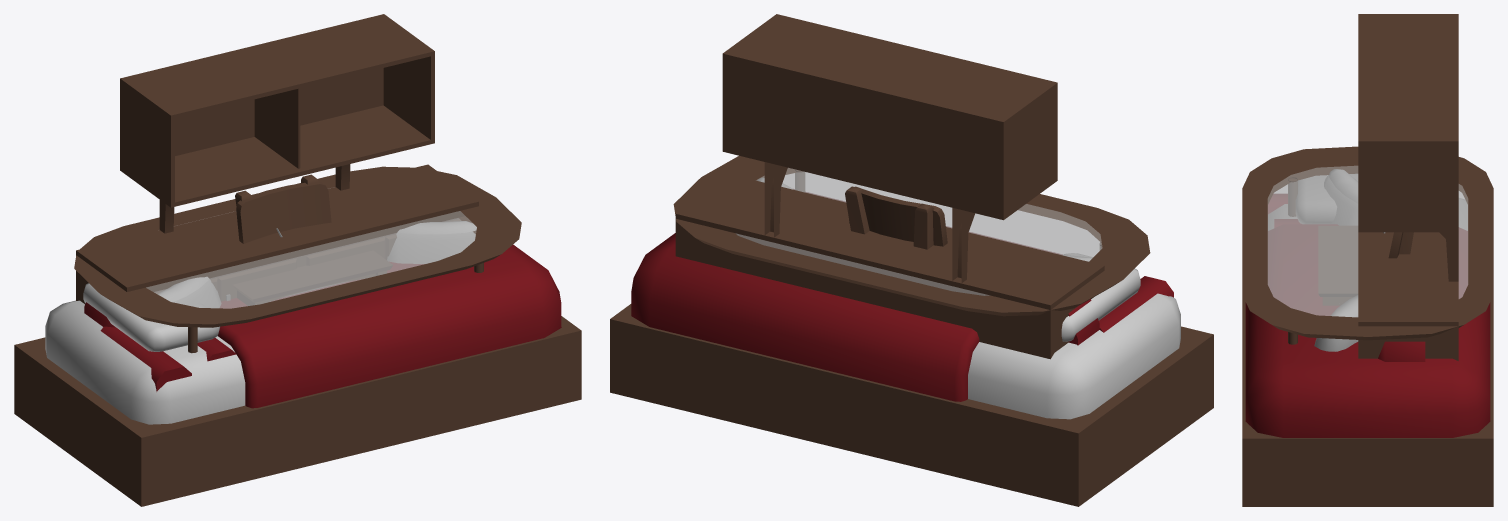
File: GGJ bedroom.fbx
The picture shows the model from 3 angles, left to right: view 1: azimuth 30°, elevation 25°; view 2: azimuth 150°, elevation 25°; view 3: azimuth 270°, elevation 25°; orthographic projection. The views are drawn at different scales.
Visible parts, largest first — view 1: Mesh_Cama, Mesh_Vitrina, Mesh_ComedorMesa, Mesh_CojinDer, Mesh_ComedorSilla, Mesh_BuroDeNoche; view 2: Mesh_Cama, Mesh_Vitrina, Mesh_ComedorMesa, Mesh_ComedorSilla, Mesh_CojinDer; view 3: Mesh_Cama, Mesh_Vitrina, Mesh_ComedorMesa, Mesh_CojinDer, Mesh_BuroDeNoche, Mesh_ComedorSilla.
Part boxes in pixels (x1,y1,x2,y2): Mesh_Cama: (14, 244, 581, 506); Mesh_Vitrina: (76, 14, 478, 303); Mesh_ComedorMesa: (74, 166, 521, 353); Mesh_CojinDer: (84, 221, 476, 391); Mesh_ComedorSilla: (235, 174, 331, 243); Mesh_BuroDeNoche: (233, 251, 392, 305); Mesh_Cama: (610, 189, 1213, 506); Mesh_Vitrina: (675, 14, 1104, 359); Mesh_ComedorMesa: (673, 155, 1150, 316); Mesh_ComedorSilla: (845, 186, 947, 249); Mesh_CojinDer: (757, 177, 1173, 345); Mesh_Cama: (1242, 174, 1493, 506); Mesh_Vitrina: (1358, 14, 1458, 360); Mesh_ComedorMesa: (1242, 146, 1493, 344); Mesh_CojinDer: (1268, 169, 1425, 361); Mesh_BuroDeNoche: (1318, 226, 1357, 305); Mesh_ComedorSilla: (1388, 232, 1413, 258).
Size of the model in its own units: 200 by 151 by 100.
